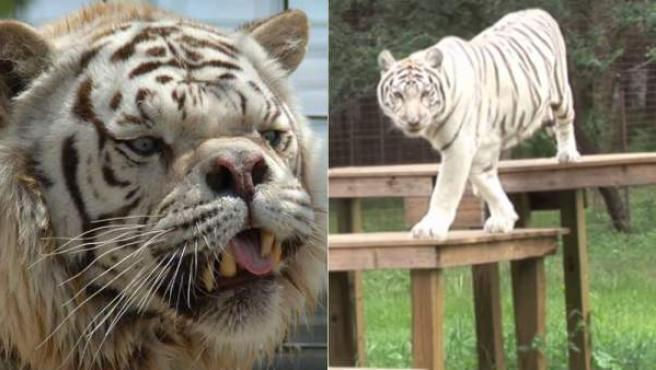Tigrew: (13, 15, 322, 346), (362, 7, 614, 246)
